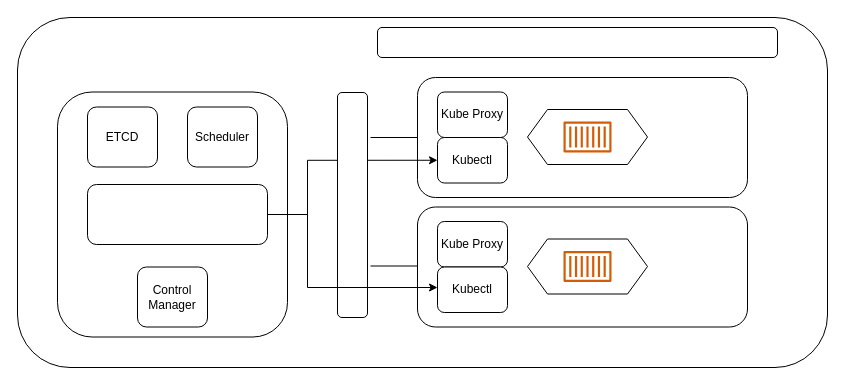
The diagram is 845 pixels wide and 385 high, and some of its shapes have lost their labels. Each missing label, with the centre of its shape:
"API Server" belongs at point 177,214.
"C N I" belongs at point 352,205.
"Container Runtime" belongs at point 577,42.
